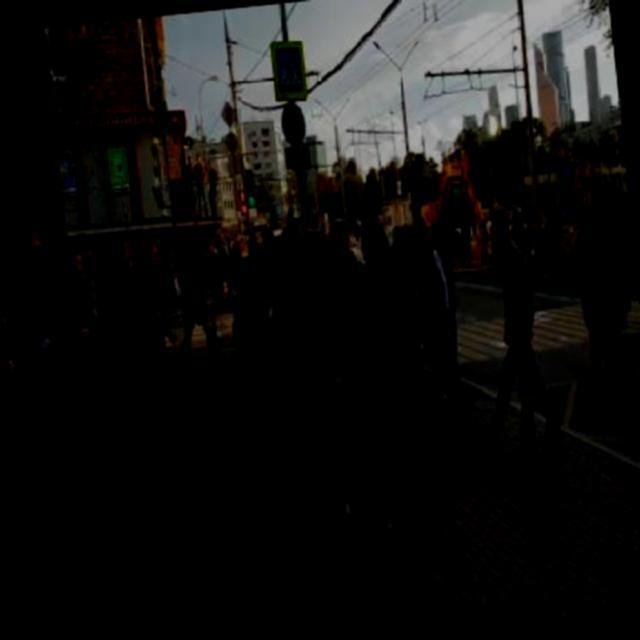non-fight: (98, 233, 204, 510)
